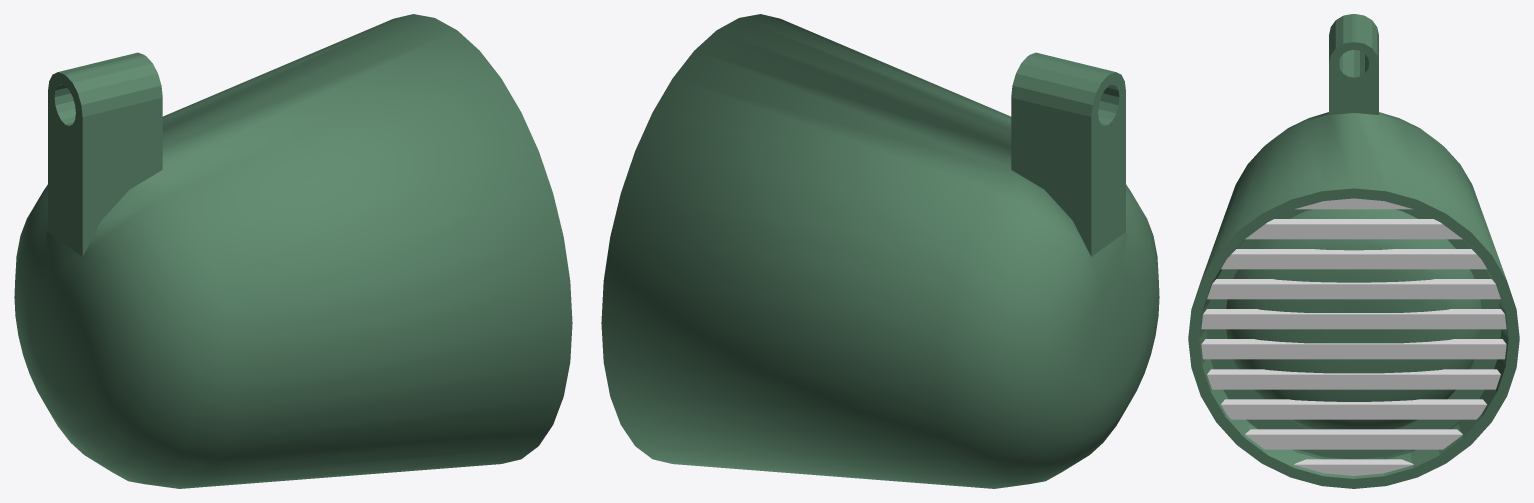
Rendered from Microphone.fbx.
3 renders of one model, left to right at view 1: azimuth 30°, elevation 25°; view 2: azimuth 150°, elevation 25°; view 3: azimuth 270°, elevation 25°, orthographic. The views are drawn at different scales.
Parts seen in each view (by area): view 1: Cylinder; view 2: Cylinder; view 3: Cylinder, Cylinder.001.
Boxes of the visible parts, left/top/right/bottom form: Cylinder: left=14, top=14, right=572, bottom=488; Cylinder: left=601, top=14, right=1159, bottom=488; Cylinder: left=1188, top=14, right=1519, bottom=488; Cylinder.001: left=1226, top=209, right=1481, bottom=429.
Bounding box in the file's own units: 200 × 224 × 200.
